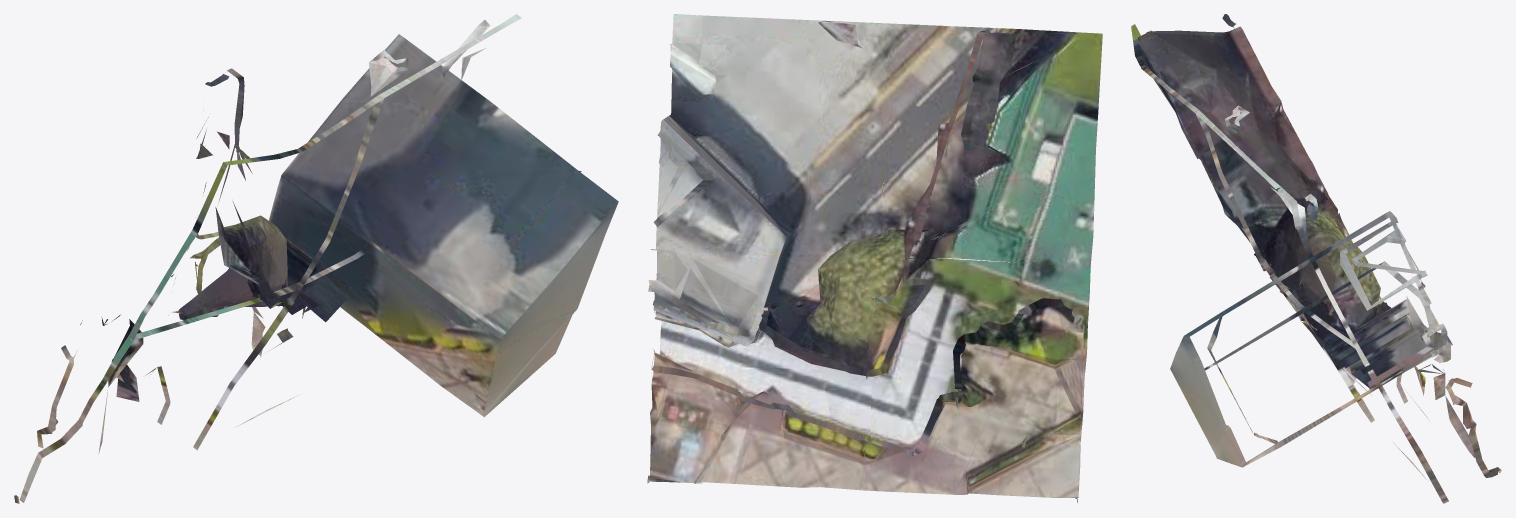
Rendered from AJVsH2y3Hl4lkygq-yzGscZ4mxXcMXQOQ0INTMaQMQUJh-mLfji0PE6wSIXdd8gv65a9NgKRsmBEgHRIuU21IwRgRMkCSqHxY7P1rVurc8FaCvxeK4Iq_-w1EVeEWxPESp19Gk9SiEyECjPhFY0LO3zC1x4K.glb.
The picture shows the model from 3 angles, left to right: view 1: azimuth 30°, elevation 25°; view 2: azimuth 150°, elevation 25°; view 3: azimuth 270°, elevation 25°; orthographic projection. The views are drawn at different scales.
Size of the model in its own units: 44.84 by 38.01 by 33.28.
1 material, 1 textured.
